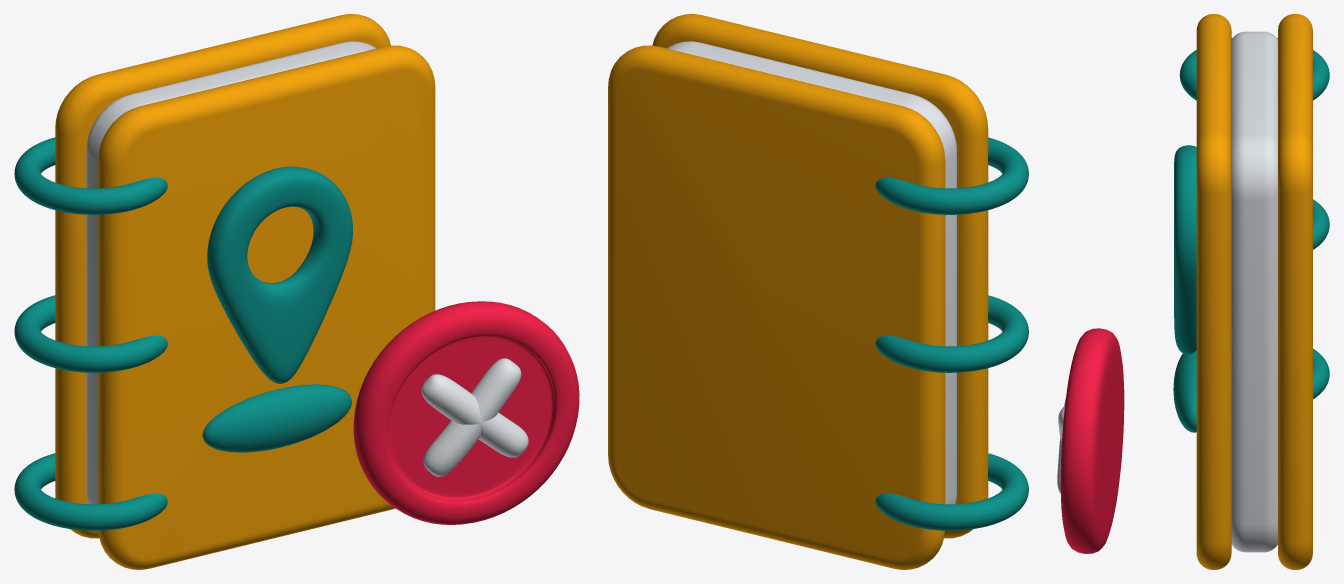
The model's file is empty-address-book-3d-animated-icon-1684573972251.glb.
3 renders of one model, left to right at view 1: azimuth 30°, elevation 25°; view 2: azimuth 150°, elevation 25°; view 3: azimuth 270°, elevation 25°, orthographic. The views are drawn at different scales.
Parts seen in each view (by area): view 1: Address Book.001, X SIGN, Sphere, Address Book, Torus.001, Cube.001, X.001; view 2: Address Book, Address Book.001, Torus.001, Cube.001; view 3: Cube.001, Address Book.001, Address Book, X SIGN, Sphere, Torus.001.
Part boxes in pixels (x1,y1,x2,y2): Address Book.001: [98, 45, 435, 569]; X SIGN: [353, 301, 579, 524]; Sphere: [202, 166, 352, 452]; Address Book: [55, 14, 390, 538]; Torus.001: [14, 137, 167, 530]; Cube.001: [86, 41, 376, 504]; X.001: [421, 358, 528, 476]; Address Book: [608, 45, 945, 569]; Address Book.001: [652, 14, 988, 538]; Torus.001: [875, 137, 1028, 530]; Cube.001: [667, 41, 956, 504]; Cube.001: [1231, 31, 1277, 552]; Address Book.001: [1196, 14, 1231, 569]; Address Book: [1278, 14, 1312, 569]; X SIGN: [1060, 328, 1124, 553]; Sphere: [1173, 145, 1196, 432]; Torus.001: [1179, 38, 1329, 399].
Size of the model in its own units: 1.36 by 1.3 by 0.7407.
